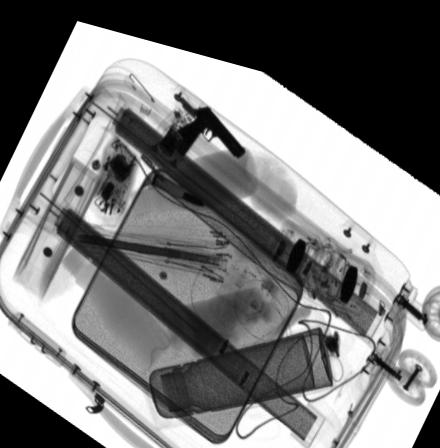Bullet: (150, 163, 205, 196)
Gun: (170, 92, 246, 147)
